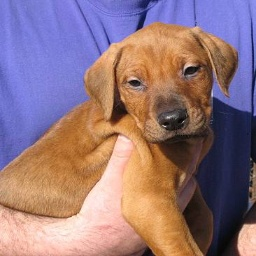dog: (7, 23, 231, 246)
